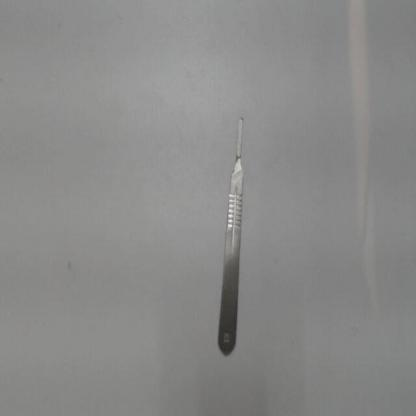No.4 BP Handle: (214, 106, 252, 358)
